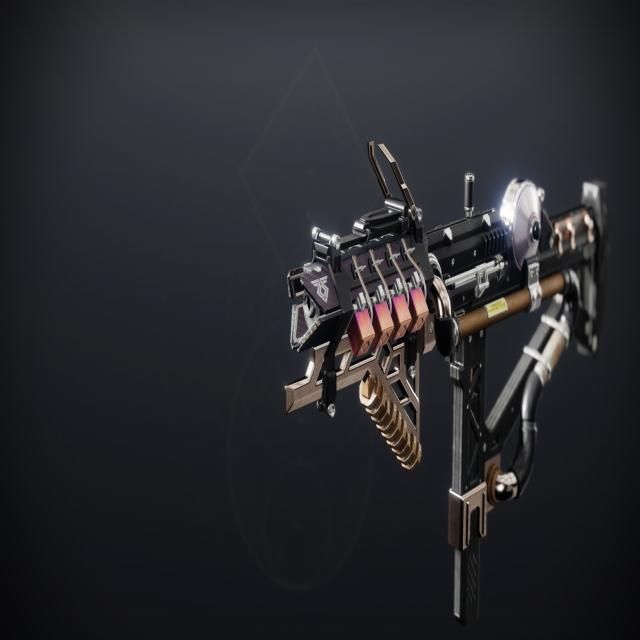smg: (272, 107, 616, 628)
